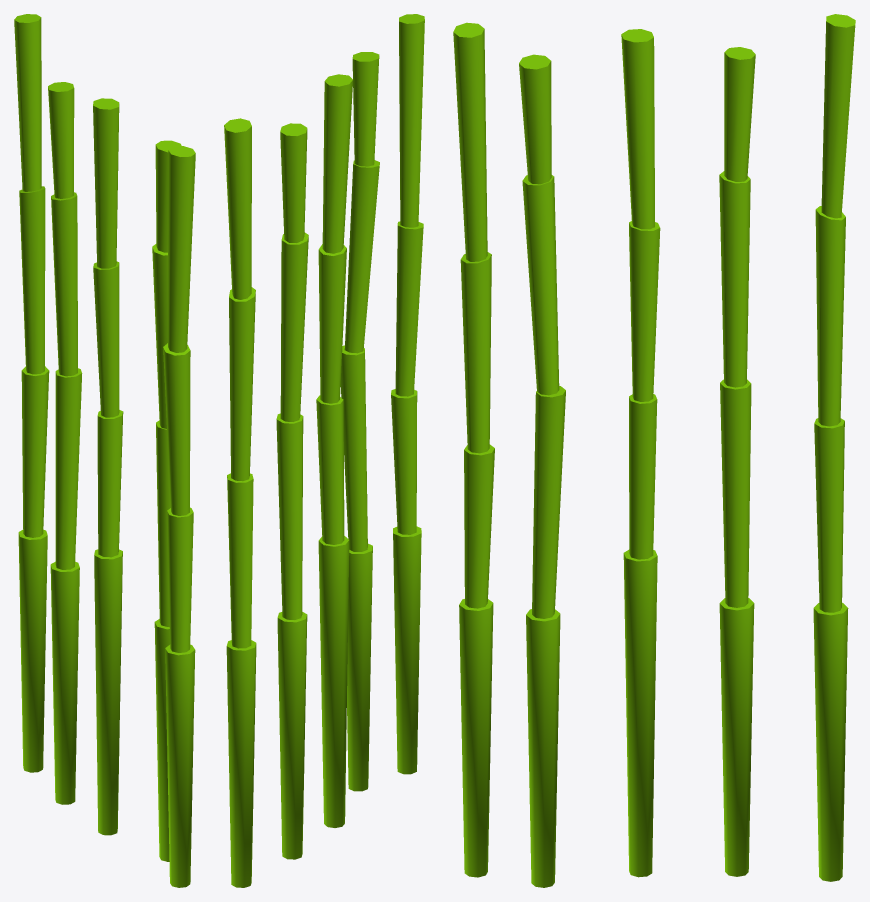
Rendered from Nature_Deco_Bamboo2.obj.
The picture shows the model from 3 angles, left to right: view 1: azimuth 30°, elevation 25°; view 2: azimuth 150°, elevation 25°; view 3: azimuth 270°, elevation 25°; orthographic projection. The views are drawn at different scales.
Visible parts, largest first — view 1: Nature_Deco_Bamboo2; view 2: Nature_Deco_Bamboo2; view 3: Nature_Deco_Bamboo2.
Boxes of the visible parts, x1,y1,x2,y2 form: Nature_Deco_Bamboo2: [14, 14, 195, 887]; Nature_Deco_Bamboo2: [224, 14, 424, 887]; Nature_Deco_Bamboo2: [453, 14, 855, 887].
Size of the model in its own units: 0.1675 by 2.44 by 1.04.
